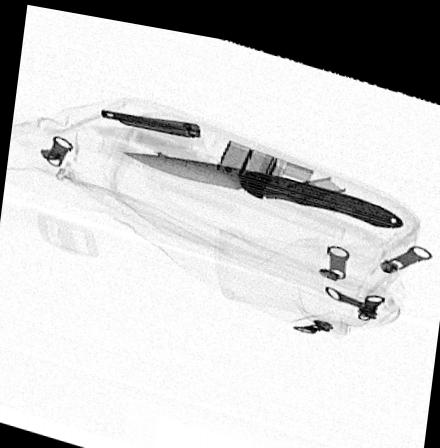Knife: (119, 146, 403, 213)
